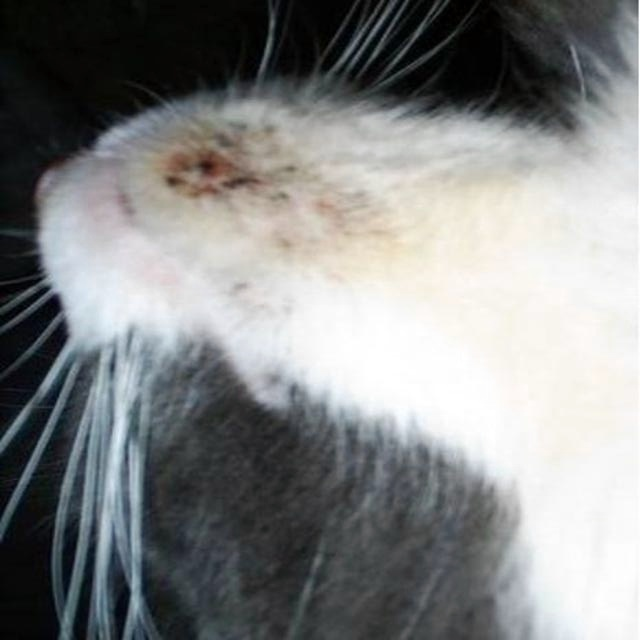acne: (154, 129, 300, 193)
